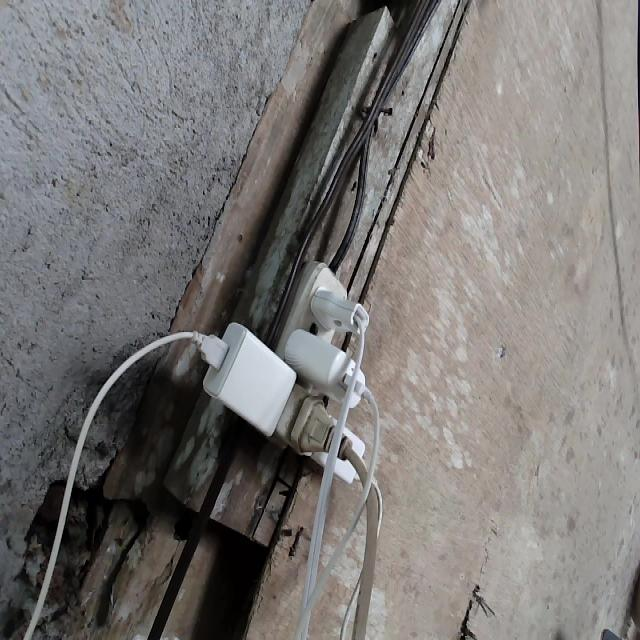-: (185, 258, 383, 502)
